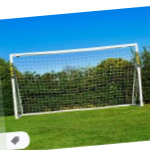goals: (9, 42, 143, 120)
